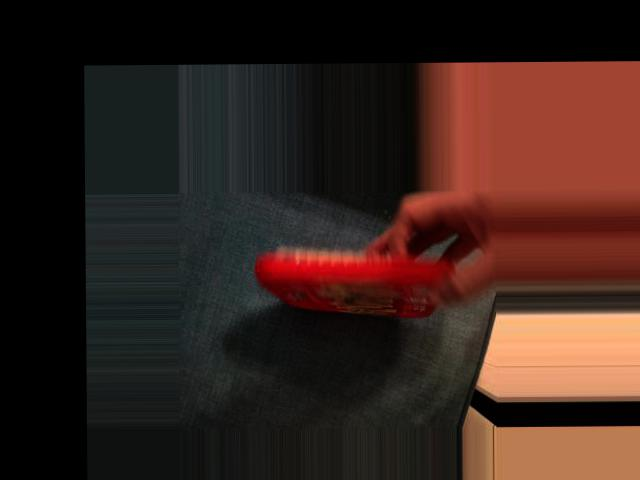cheese: (261, 249, 451, 311)
